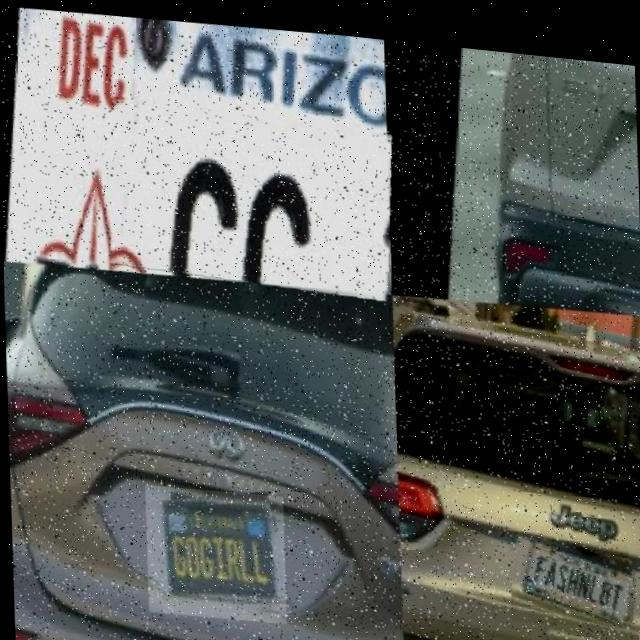LicensePlate: (106, 92, 394, 295), (143, 479, 285, 620), (510, 525, 627, 616)
